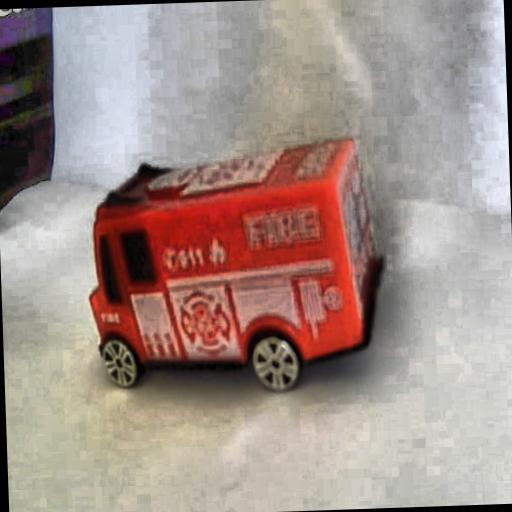fire_truck: (73, 127, 396, 408), (333, 149, 378, 328)
